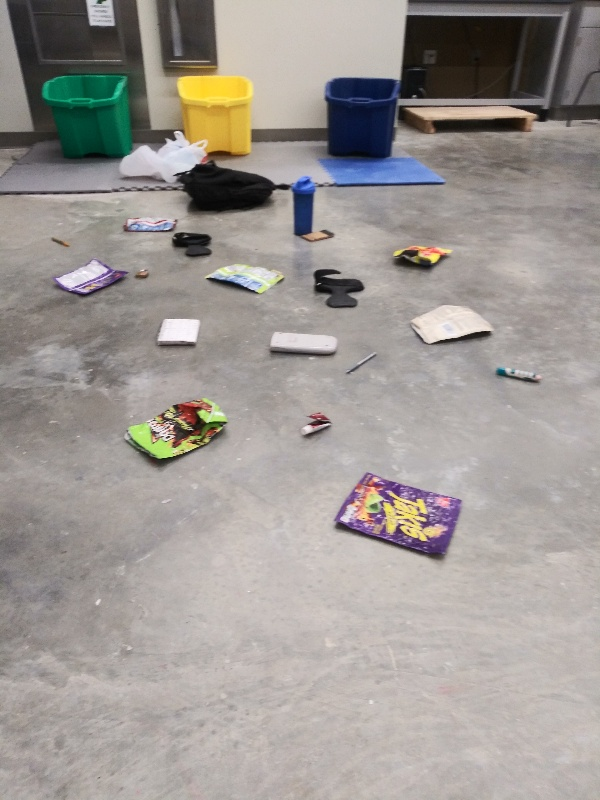bag: (332, 468, 465, 565), (121, 395, 233, 463), (403, 301, 498, 344), (47, 257, 130, 300), (204, 257, 290, 297), (387, 238, 455, 272), (116, 212, 183, 233)
